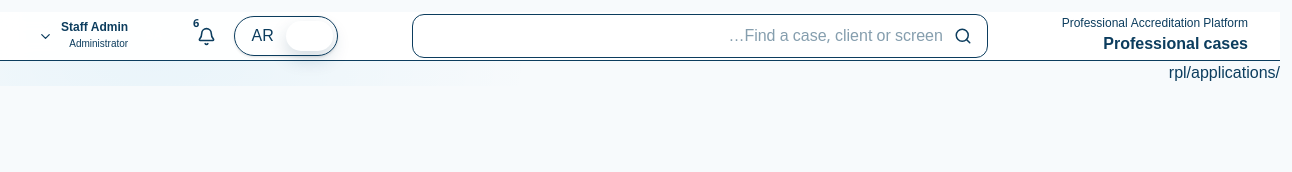
the bell › counts the work waiting for the viewer and opens Today
Expected: the text with test id "work-badge" reads "6", x1=193 y1=12 x2=199 y2=35
Click the button named "Work waiting for you: 6" at (206, 36), box x1=186 y1=16 x2=226 y2=56
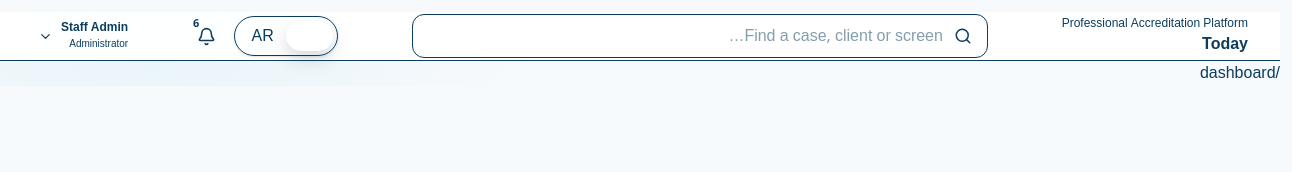
Result: the text with test id "probe" reads "/dashboard" at x1=1200 y1=56 x2=1280 y2=90
